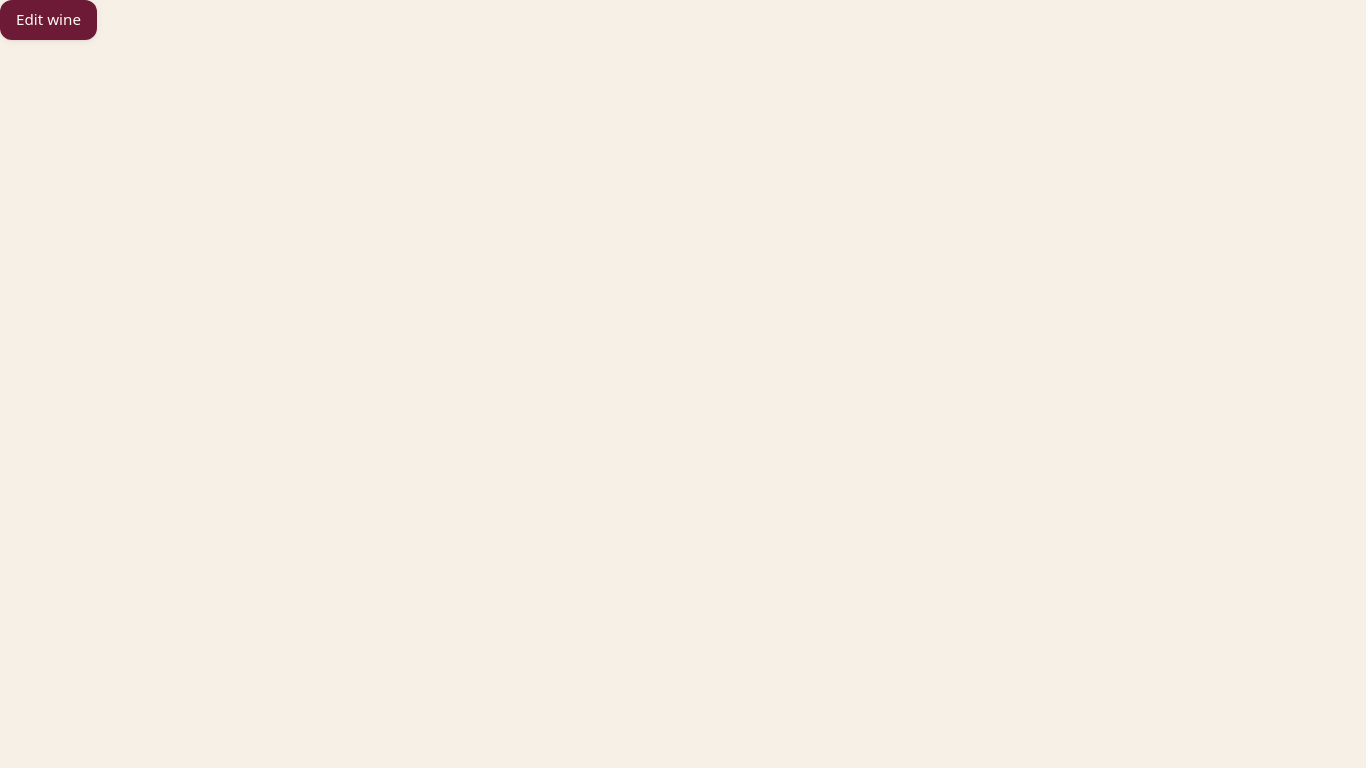
Test: Sheet › closes from its close button
This screenshot has width=1366, height=768.
Click the button "Edit wine" at (48, 20), box [0,0,97,40]
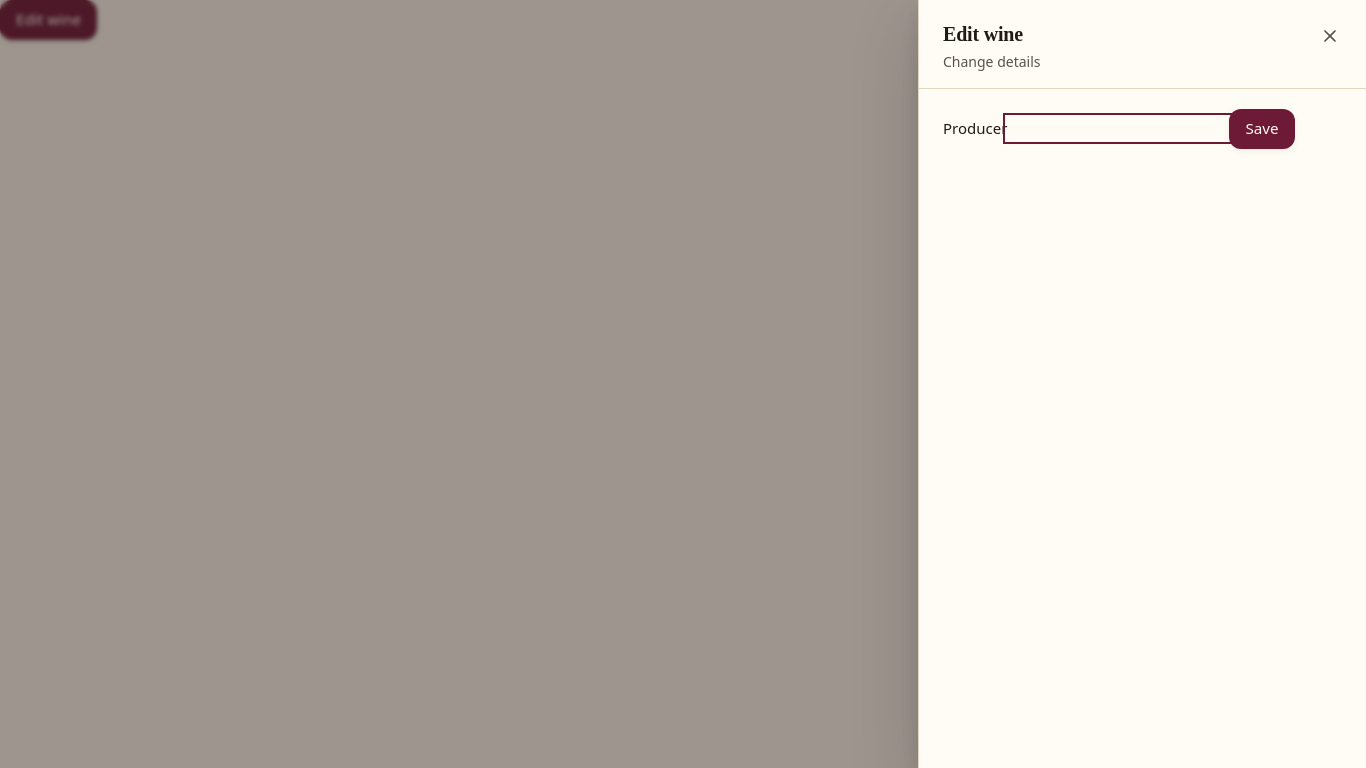
Click the button named "Close" at (1330, 36), box [1310,16,1350,56]
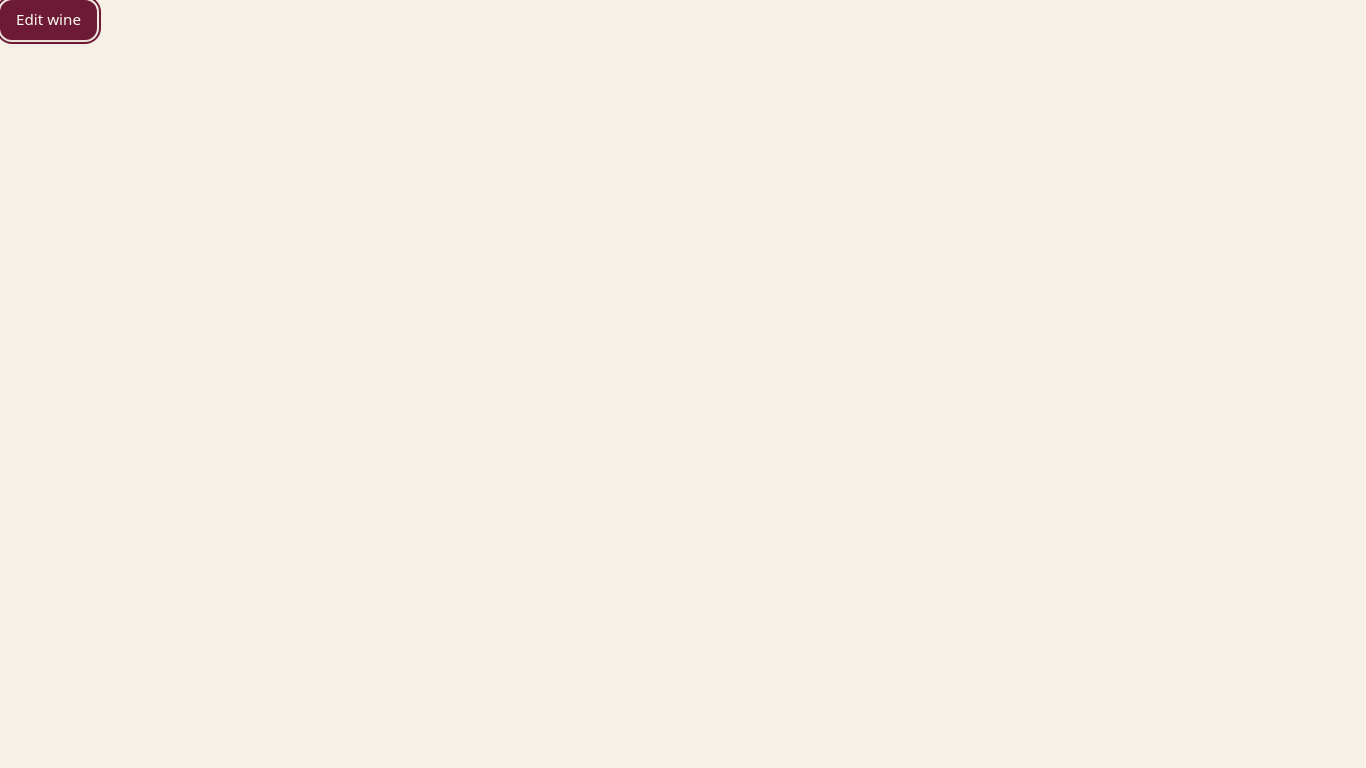
Check: the dialog is gone
